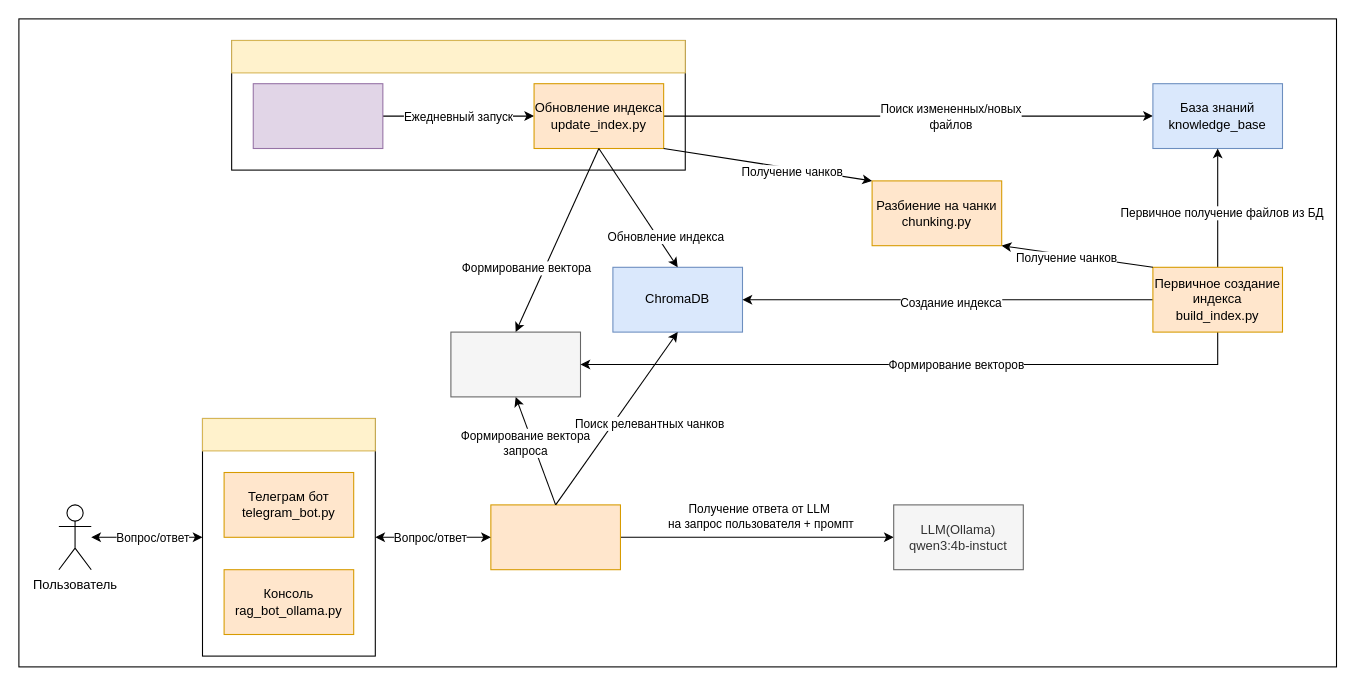
This 1355x686 diagram has some shape labels left out. The box of each missing label's shape, as (x1, y1, x2, y2) in pixels:
Embedding Qwen/Qwen3-Embedding-4B: (450, 331, 580, 397)
Win планировщик setup_task.ps1: (252, 83, 383, 148)
Автоматическое обновление: (231, 39, 685, 73)
Интерфейс: (201, 417, 375, 451)
Ядро сервиса rag_engine.py: (490, 504, 620, 570)
